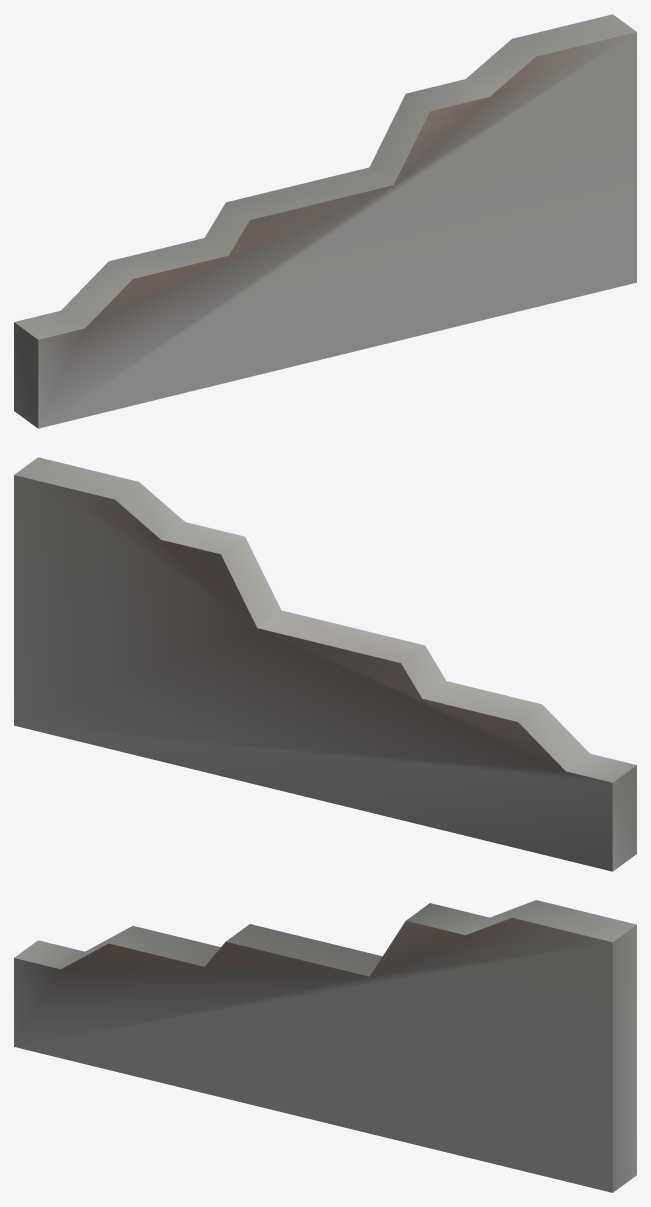
The model's file is wall-broken-type-a.glb.
3 views of the same model, one above another, from view 1: azimuth 30°, elevation 25°; view 2: azimuth 150°, elevation 25°; view 3: azimuth 330°, elevation 25° (orthographic).
Visible parts, largest first — view 1: wall-broken-type-a; view 2: wall-broken-type-a; view 3: wall-broken-type-a.
Boxes of the visible parts, <box> form: wall-broken-type-a: <box>14,14,636,428</box>; wall-broken-type-a: <box>14,457,636,871</box>; wall-broken-type-a: <box>14,900,636,1192</box>.
Size of the model in its own units: 1 by 0.4 by 0.07.
